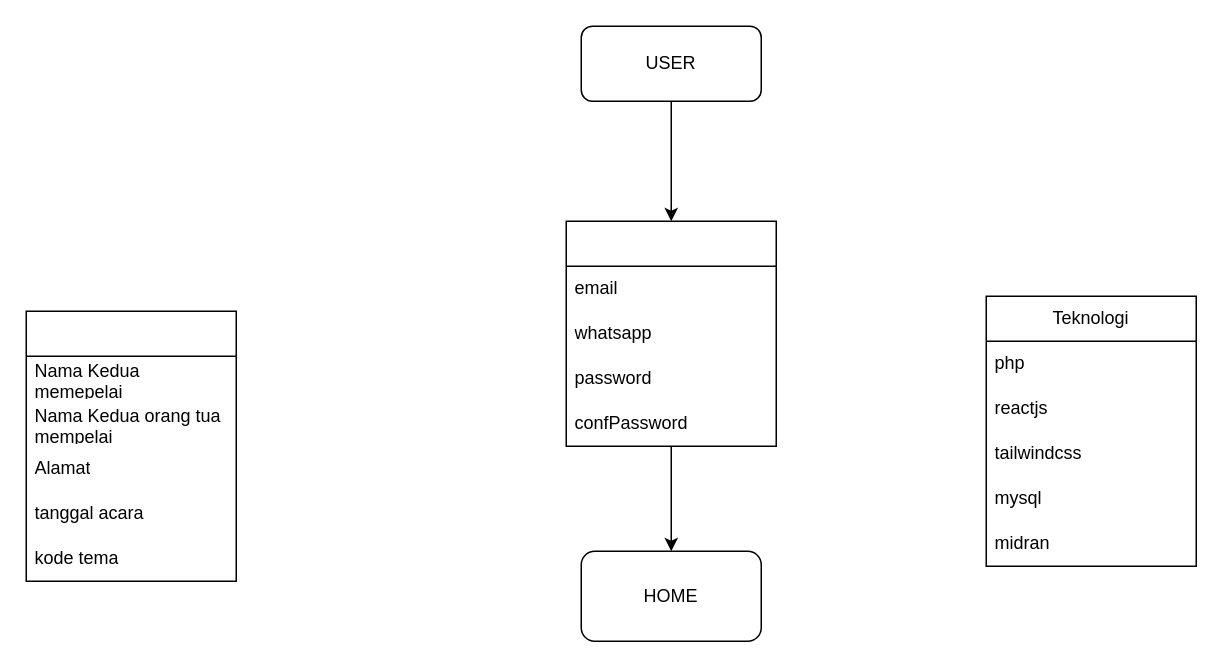
Some shapes in this 1223 by 668 pixel diagram are drawn without their labels. Here are the shapes that lost their labels. From the top down, the box of each, then its label:
(565, 220, 776, 446): REGISTRASI
(25, 310, 236, 581): DATA SURAT
